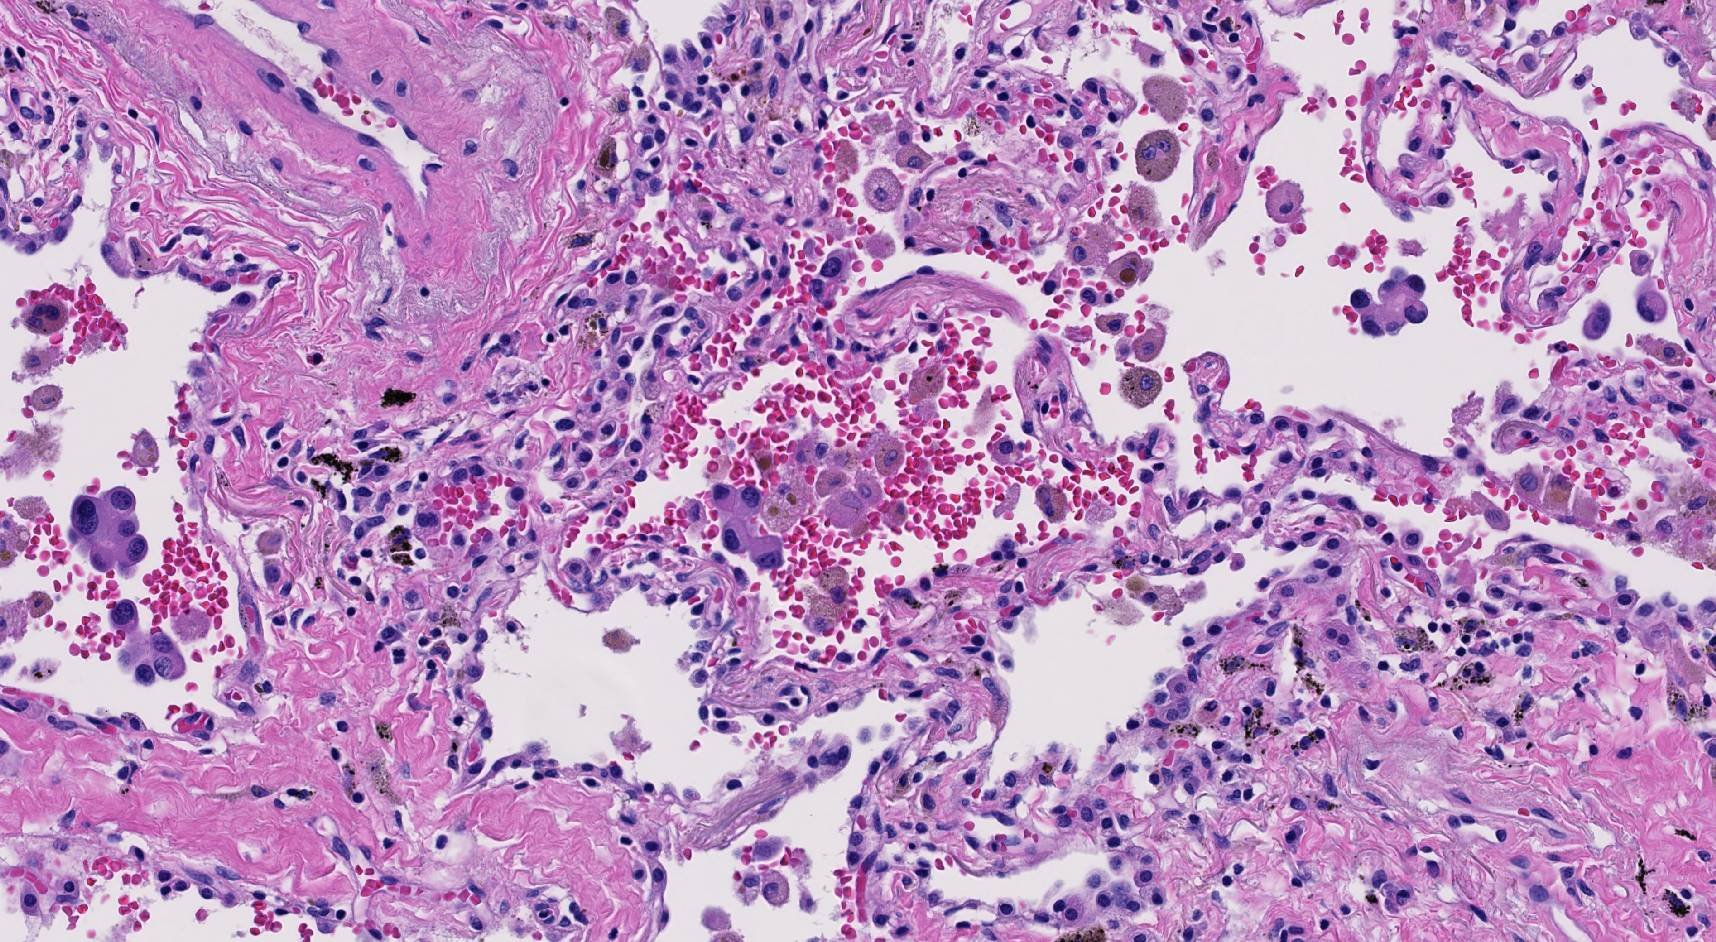stas: (68, 483, 149, 578), (106, 595, 187, 683), (707, 484, 787, 568), (1352, 269, 1430, 338)
